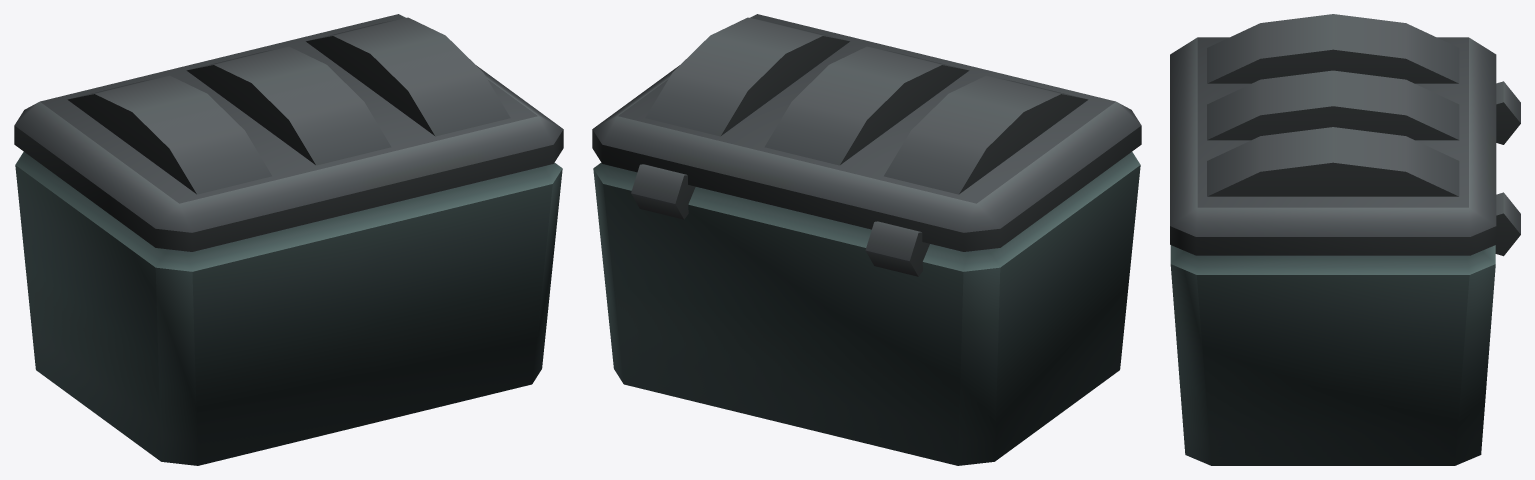
The model's file is Trash_Container_1B.fbx.
3 views of the same model, side by side, from view 1: azimuth 30°, elevation 25°; view 2: azimuth 150°, elevation 25°; view 3: azimuth 270°, elevation 25° (orthographic). The views are drawn at different scales.
Visible parts, largest first — view 1: Trash_Container_1B, Trash_Lid_1B; view 2: Trash_Container_1B, Trash_Lid_1B; view 3: Trash_Lid_1B, Trash_Container_1B.
Part boxes in pixels (bbox=[...]): Trash_Container_1B: bbox=[15, 152, 562, 465]; Trash_Lid_1B: bbox=[14, 14, 563, 251]; Trash_Container_1B: bbox=[593, 152, 1140, 465]; Trash_Lid_1B: bbox=[592, 14, 1141, 251]; Trash_Lid_1B: bbox=[1170, 14, 1496, 255]; Trash_Container_1B: bbox=[1170, 81, 1520, 465].
Bounding box in the file's own units: 279 × 193 × 214.
